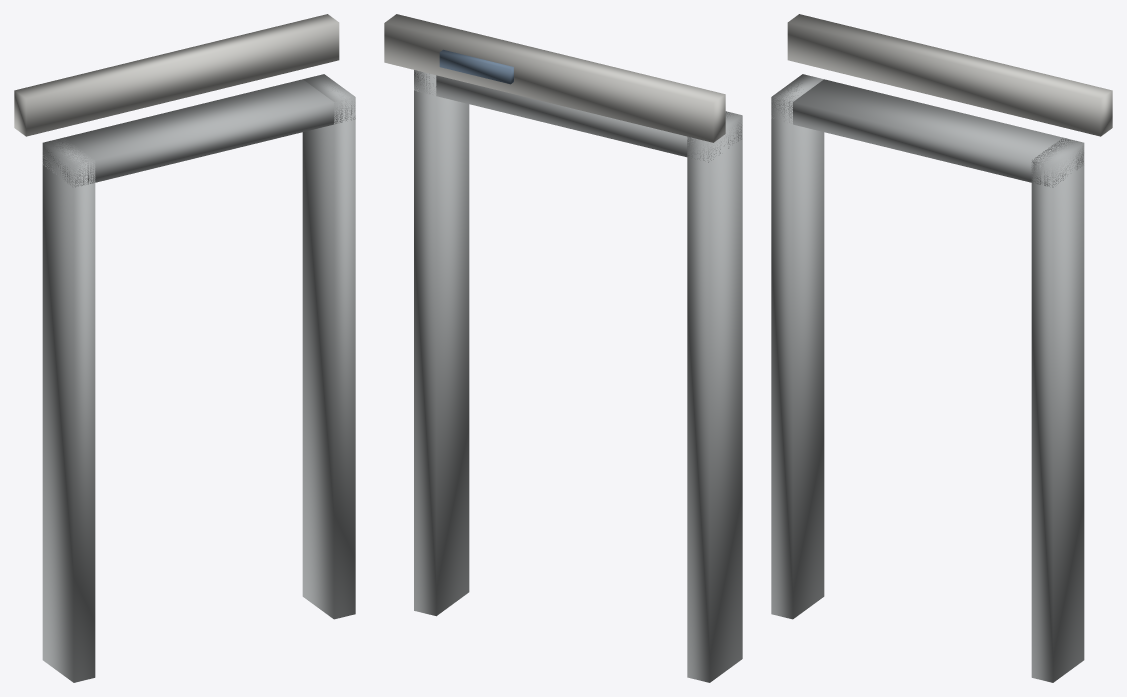
File: doorway_hospital_w106_h210_d24.glb
3 views of the same model, side by side, from view 1: azimuth 30°, elevation 25°; view 2: azimuth 150°, elevation 25°; view 3: azimuth 330°, elevation 25° (orthographic). The views are drawn at different scales.
Parts seen in each view (by area): view 1: world; view 2: world; view 3: world.
Part boxes in pixels (box(x1,y1,x2,y2)): world: box(14, 14, 355, 682); world: box(384, 14, 742, 682); world: box(771, 14, 1112, 682).
Size of the model in its own units: 1.39 by 2.4 by 0.36.
